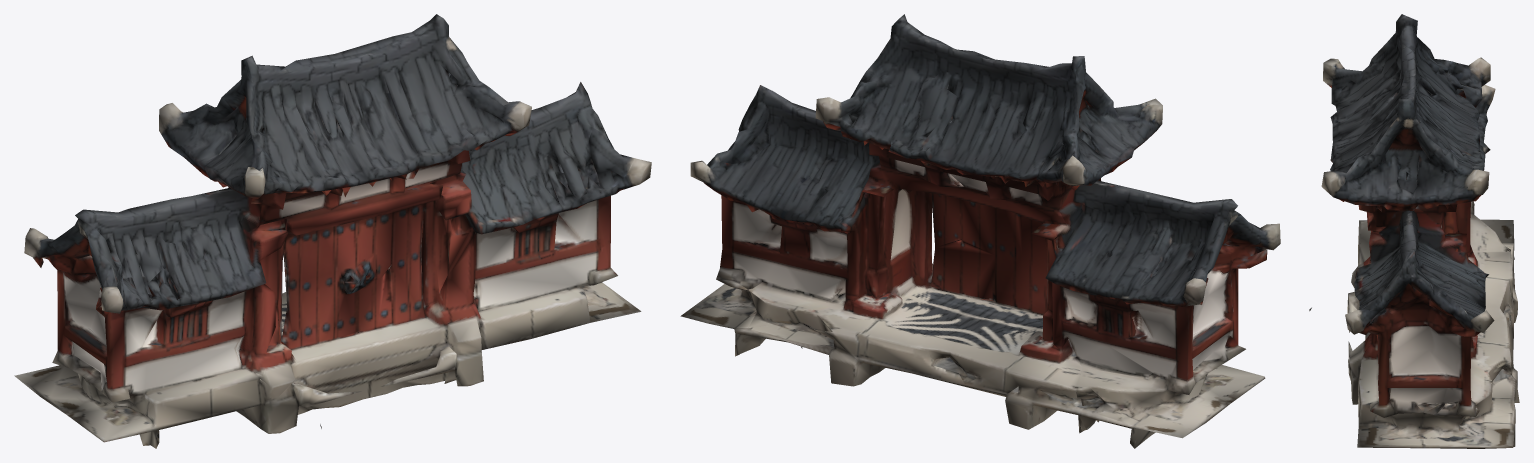
File: giwa_gate.glb
3 renders of one model, left to right at view 1: azimuth 30°, elevation 25°; view 2: azimuth 150°, elevation 25°; view 3: azimuth 270°, elevation 25°, orthographic. The views are drawn at different scales.
Visible parts, largest first — view 1: low; view 2: low; view 3: low.
Boxes of the visible parts, bbox=[...] form: low: bbox=[14, 14, 651, 448]; low: bbox=[680, 14, 1280, 448]; low: bbox=[1309, 14, 1519, 448].
Size of the model in its own units: 0.995 by 0.6099 by 0.3795.
1 material, 1 textured.
